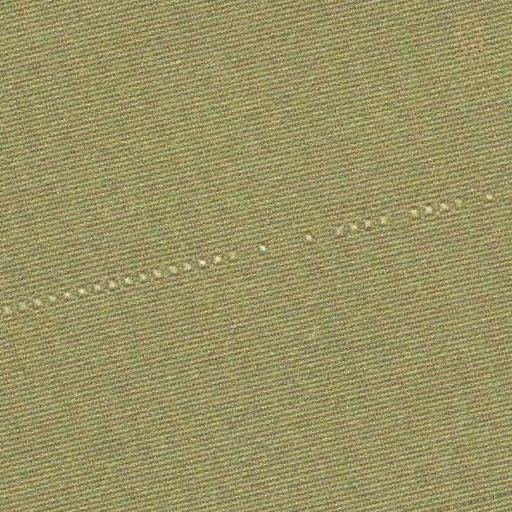slub: (1, 187, 500, 323)
